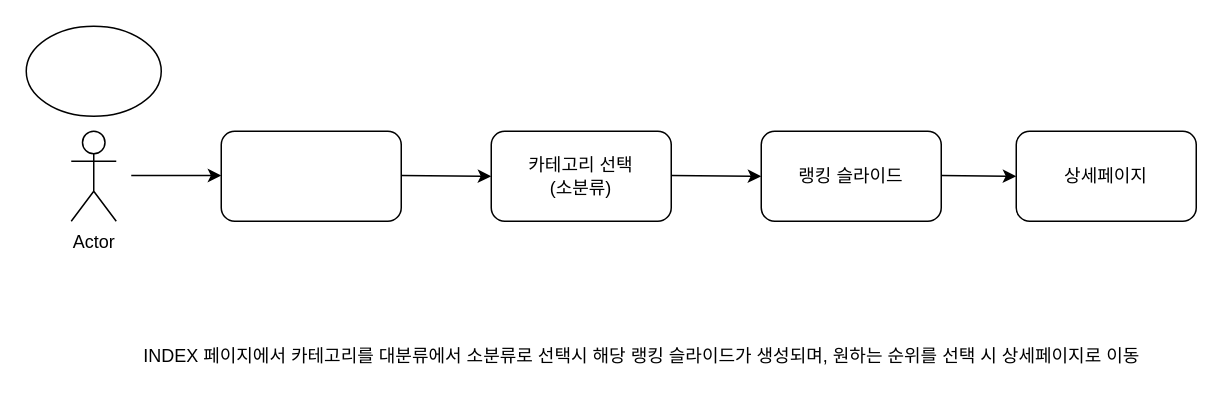
The diagram is 1223 pixels wide and 398 high, and some of its shapes have lost their labels. The box of each missing label's shape, as (x1, y1, x2, y2) in pixels:
INDEX: (25, 25, 161, 116)
카테고리 선택 (대분류): (220, 130, 401, 221)
